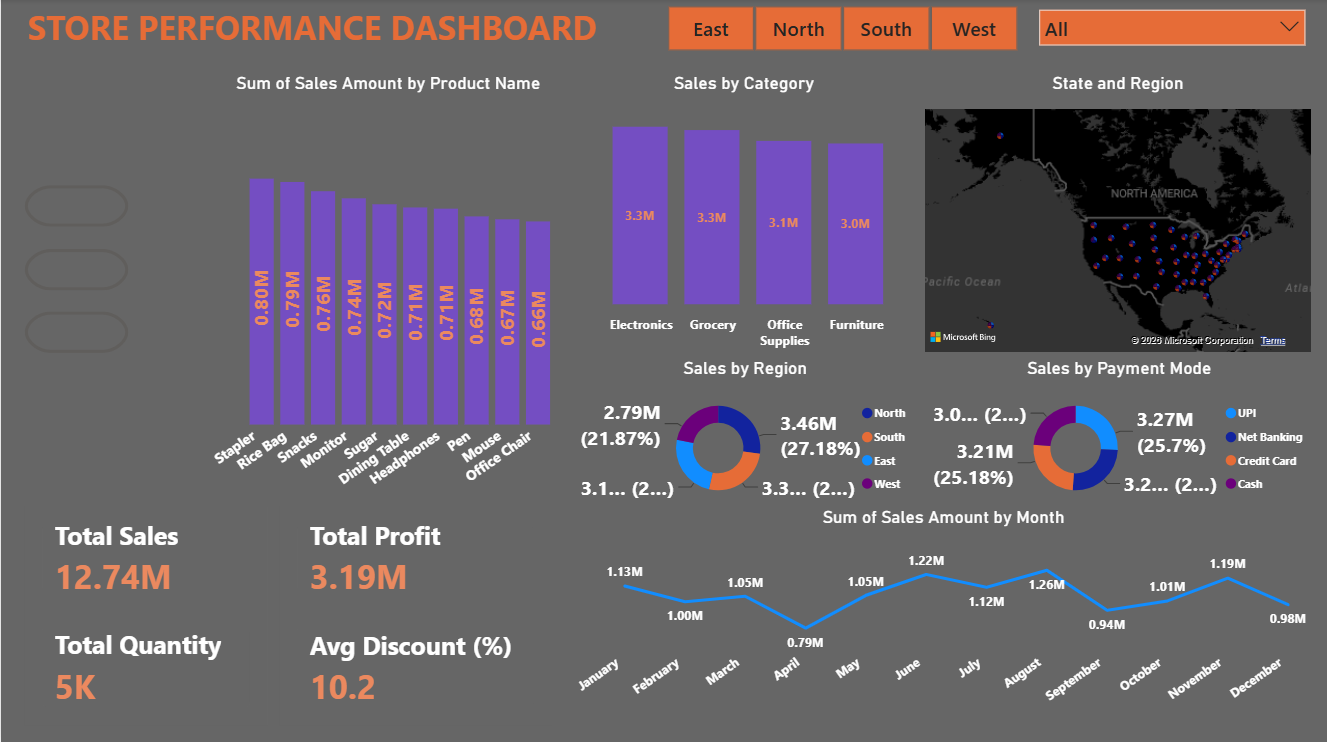

What the dashboard file says about the page in this screenshot:
{"tool":"powerbi","page":{"name":"Page 1","canvas":[1280,720],"ordinal":0},"visuals":[{"type":"actionButton","box":[23.3,179.8,100,40],"z":0},{"type":"actionButton","box":[23.3,241.5,100,40],"z":1000},{"type":"actionButton","box":[23.3,301.9,100,40],"z":2000},{"type":"textbox","box":[0,0,601,56.3],"z":3000},{"type":"slicer","fields":{"Values":["store_management_system.Region"]},"box":[617.5,0,387,56.3],"z":4000},{"type":"slicer","fields":{"Values":["store_management_system.Delivery Status"]},"box":[992.1,0,277.2,56.3],"z":5000},{"type":"clusteredColumnChart","title":"Sales by Category","fields":{"Category":["store_management_system.Category"],"Y":["Sum(store_management_system.Sales Amount)"]},"box":[547.5,71.4,338.9,274.4],"z":6000},{"type":"map","title":"State and Region","fields":{"Category":["store_management_system.State"],"Series":["store_management_system.Region"]},"box":[886.5,71.4,382.8,274.4],"z":7000},{"type":"donutChart","title":"Sales by Payment Mode","fields":{"Category":["store_management_system.Payment Mode"],"Y":["Sum(store_management_system.Sales Amount)"]},"box":[887.8,345.8,382.8,144.1],"z":8000},{"type":"donutChart","title":"Sales by Region","fields":{"Category":["store_management_system.Region"],"Y":["Sum(store_management_system.Sales Amount)"]},"box":[548.9,345.8,338.9,144.1],"z":9000},{"type":"lineChart","fields":{"Category":["store_management_system.Order Date.Variation.Date Hierarchy.Month"],"Y":["Sum(store_management_system.Sales Amount)"]},"box":[548.9,489.9,721.8,200.3],"z":10000},{"type":"clusteredColumnChart","fields":{"Category":["store_management_system.Product Name"],"Y":["Sum(store_management_system.Sales Amount)"]},"box":[200.3,71.4,347.2,418.5],"z":11000},{"type":"cardVisual","fields":{"Data":["Sum(store_management_system.Sales Amount)"]},"box":[50.8,489.9,205.8,100.2],"z":12000},{"type":"cardVisual","fields":{"Data":["Sum(store_management_system.Profit)"]},"box":[286.8,489.9,204.5,100.2],"z":13000},{"type":"cardVisual","fields":{"Data":["Sum(store_management_system.Quantity)"]},"box":[23.3,590.1,223.7,111.1],"z":14000},{"type":"cardVisual","fields":{"Data":["Avg(store_management_system.Discount (%))"]},"box":[256.6,590.1,262.1,111.1],"z":15000}]}

Visuals, with their boxes in screenshot pixels (x1, y1, x2, y2), scaled from the page's 1280x720 canvas onto the 1327x742 screenshot:
actionButton: 24, 185, 128, 227
actionButton: 24, 249, 128, 290
actionButton: 24, 311, 128, 352
textbox: 0, 0, 623, 58
slicer - store_management_system.Region: 640, 0, 1041, 58
slicer - store_management_system.Delivery Status: 1029, 0, 1316, 58
"Sales by Category" clusteredColumnChart: 568, 74, 919, 356
"State and Region" map: 919, 74, 1316, 356
"Sales by Payment Mode" donutChart: 920, 356, 1317, 505
"Sales by Region" donutChart: 569, 356, 920, 505
lineChart - store_management_system.Order Date.Variation.Date Hierarchy.Month x Sum(store_management_system.Sales Amount): 569, 505, 1317, 711
clusteredColumnChart - store_management_system.Product Name x Sum(store_management_system.Sales Amount): 208, 74, 568, 505
cardVisual - Sum(store_management_system.Sales Amount): 53, 505, 266, 608
cardVisual - Sum(store_management_system.Profit): 297, 505, 509, 608
cardVisual - Sum(store_management_system.Quantity): 24, 608, 256, 723
cardVisual - Avg(store_management_system.Discount (%)): 266, 608, 538, 723
